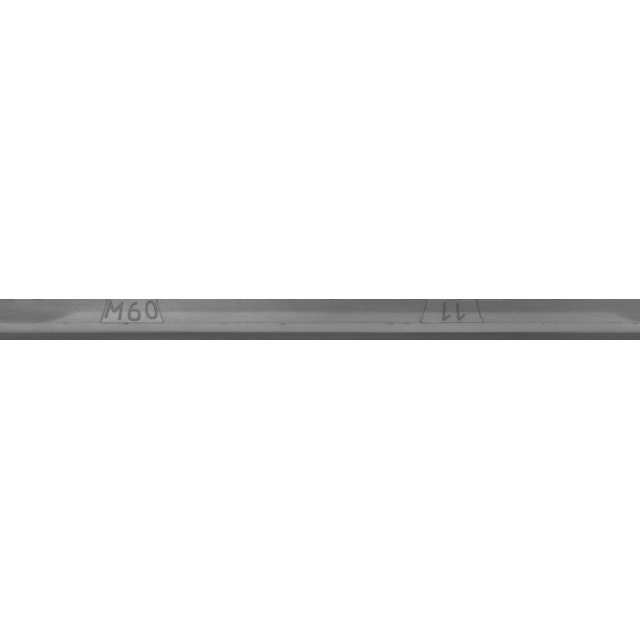mohao: (36, 270, 236, 370)
xuehao: (353, 270, 553, 370)
